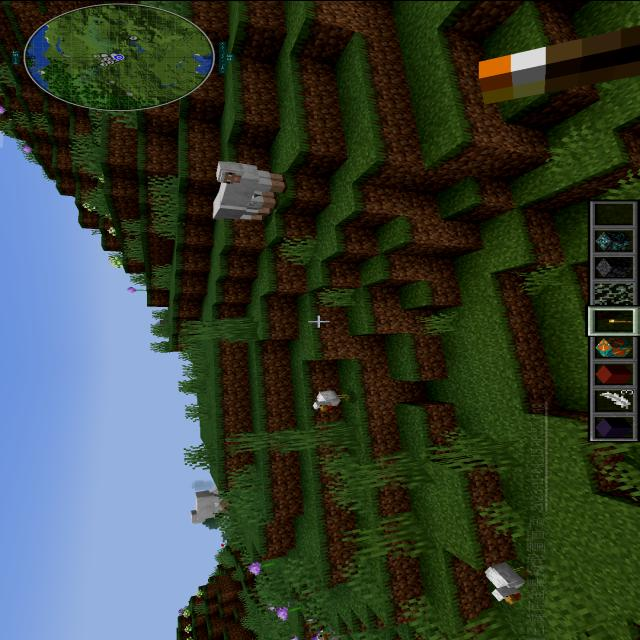chicken: (483, 548, 548, 608), (307, 382, 353, 414), (308, 618, 348, 640)
